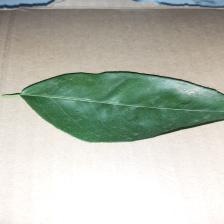healthy: (24, 64, 224, 144)
